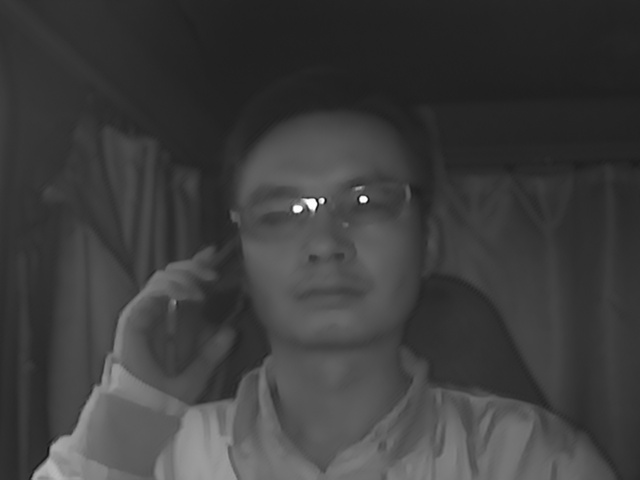hand: (122, 243, 239, 396)
